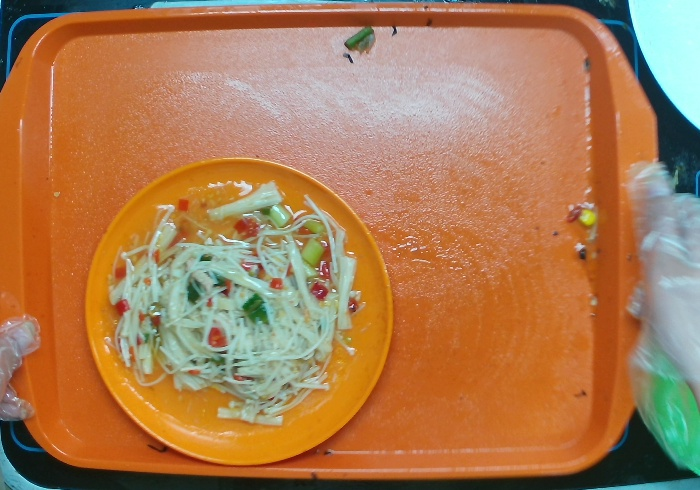HZYJPL-Ju_Huang_Yuan_Pan: (79, 149, 399, 475)
